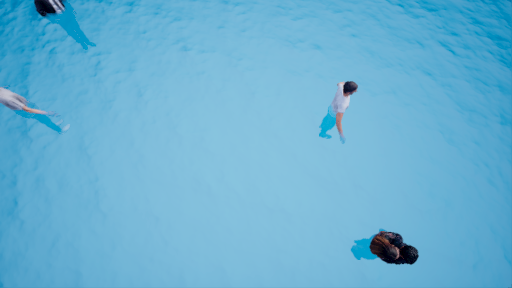person: (1, 83, 77, 139), (311, 78, 368, 147), (32, 1, 102, 53), (354, 230, 421, 267)
